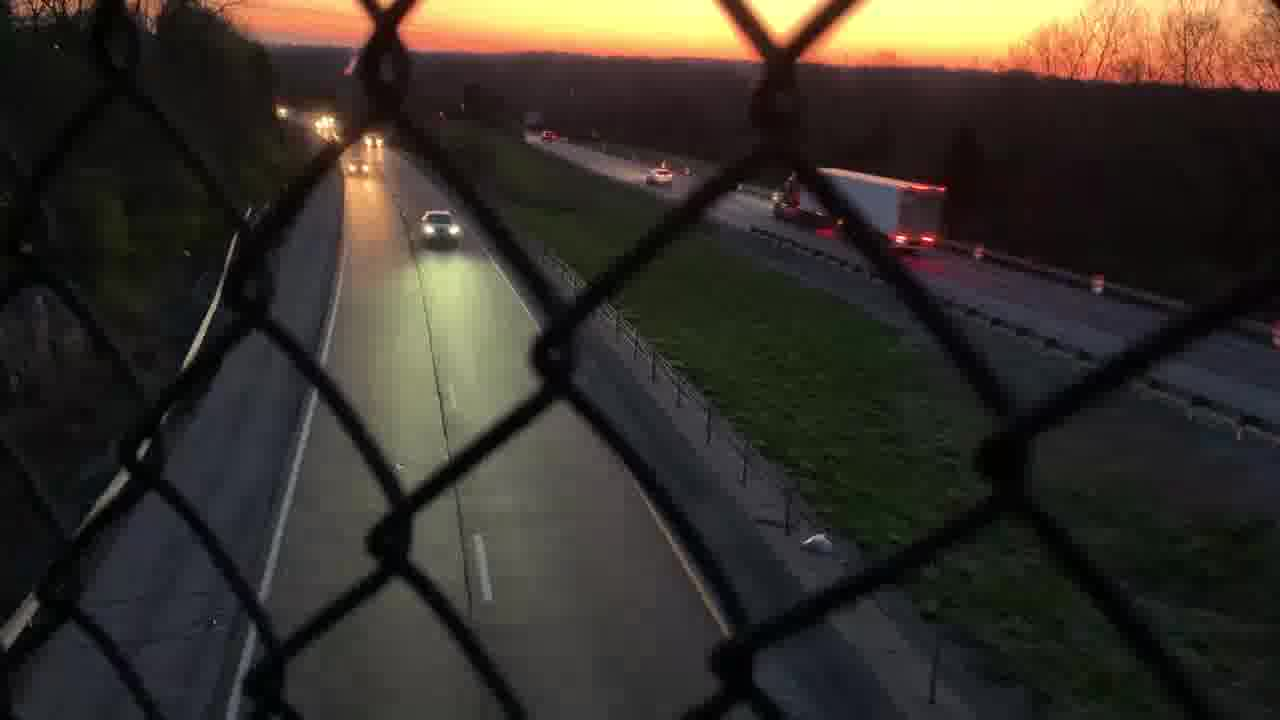heavyTruck: (773, 162, 936, 248)
largeCar: (644, 165, 675, 190)
smallCar: (418, 211, 463, 251)
